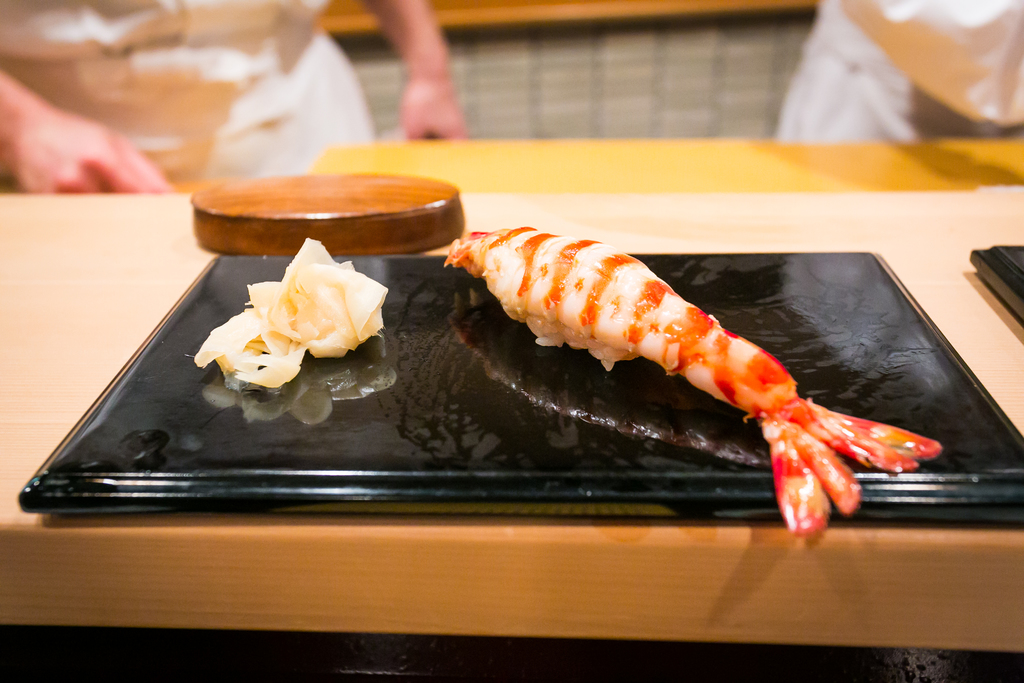sushi: (440, 215, 951, 545)
